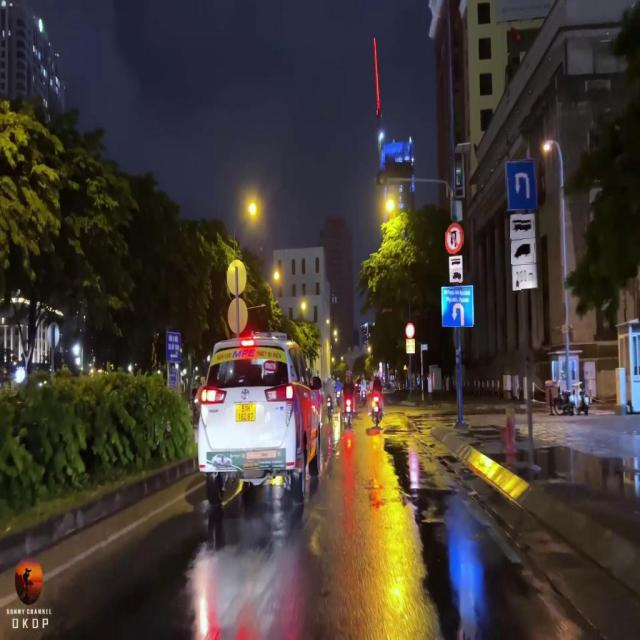cam_quay_dau_xe: (445, 222, 464, 255)
cho_quay_xe: (505, 159, 537, 209), (452, 302, 466, 326)
khac: (442, 287, 473, 327), (510, 213, 535, 240), (511, 238, 536, 264), (512, 265, 537, 291), (449, 256, 463, 269), (450, 268, 462, 283)
